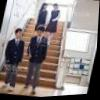Bench: (0, 10, 73, 92)
